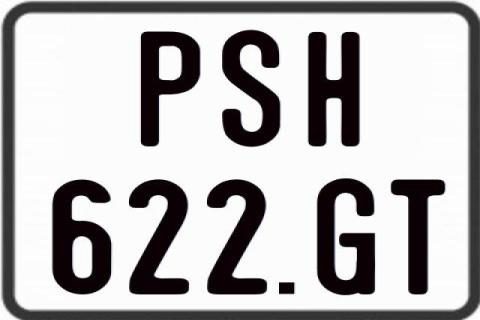0: (206, 180, 270, 300), (52, 179, 115, 297), (126, 177, 186, 293)
G: (314, 178, 378, 300)
H: (308, 32, 364, 151)
P: (139, 31, 203, 147)
S: (221, 28, 281, 145)
T: (390, 177, 445, 295)
